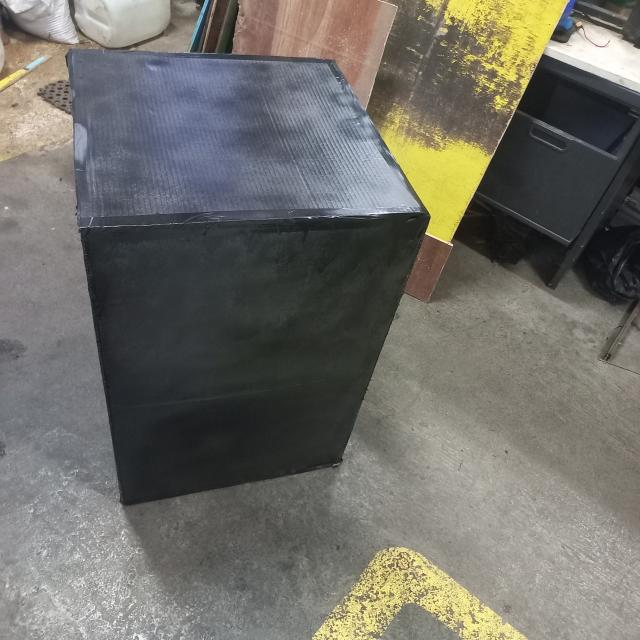obstacle: (67, 42, 433, 506)
